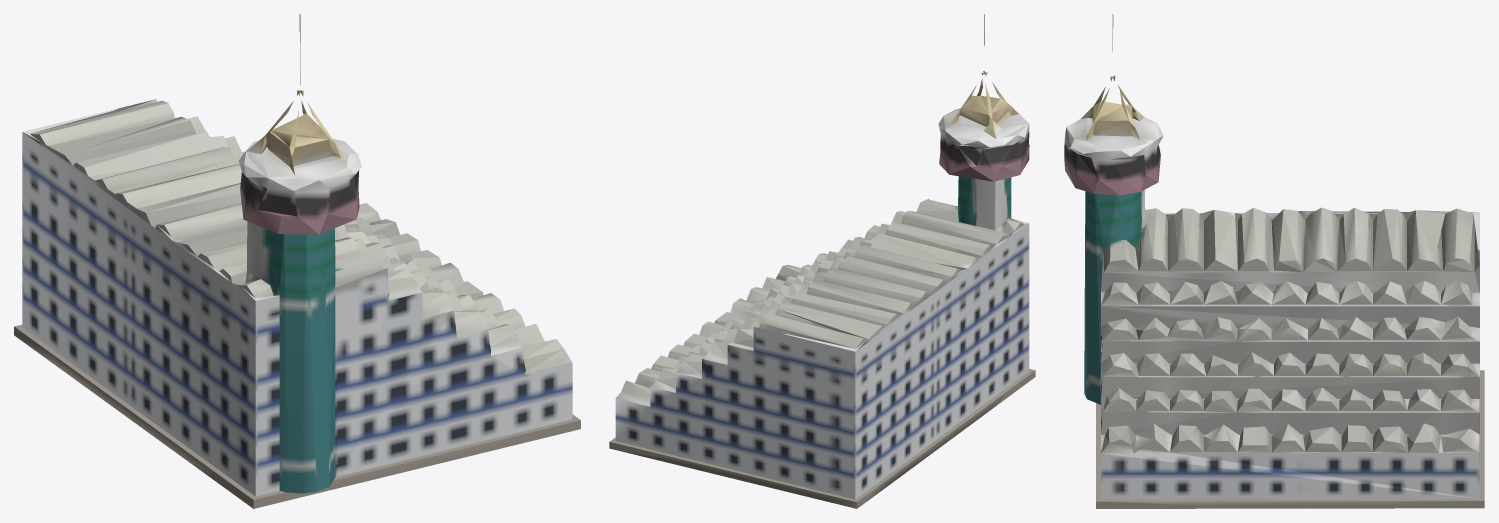
File: cao_oc_sen_bien.far.glb
3 renders of one model, left to right at view 1: azimuth 30°, elevation 25°; view 2: azimuth 150°, elevation 25°; view 3: azimuth 270°, elevation 25°, orthographic. The views are drawn at different scales.
Parts seen in each view (by area): view 1: cao_oc_sen_bien; view 2: cao_oc_sen_bien; view 3: cao_oc_sen_bien.
Part boxes in pixels (box(x1,y1,x2,y2)): cao_oc_sen_bien: box(14, 14, 580, 508); cao_oc_sen_bien: box(609, 14, 1035, 508); cao_oc_sen_bien: box(1064, 14, 1484, 508).
Bounding box in the file's own units: 38.55 × 53 × 52.2.
Materials: 2 (2 with a texture image).
